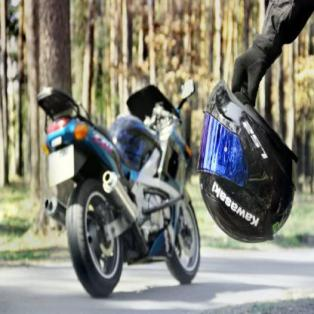Motocicleta: (33, 70, 203, 296)
